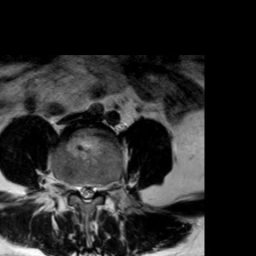CCS_stenosis: (83, 176, 89, 209)
LFS_stenosis: (96, 174, 103, 199)
LLS_normal: (89, 176, 96, 203)
RFS_normal: (68, 173, 76, 198)
RLS_normal: (75, 175, 83, 202)
